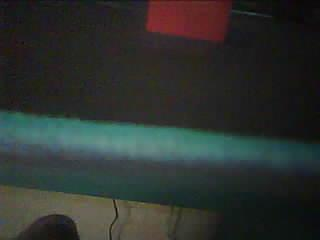lego: (146, 1, 230, 42)
